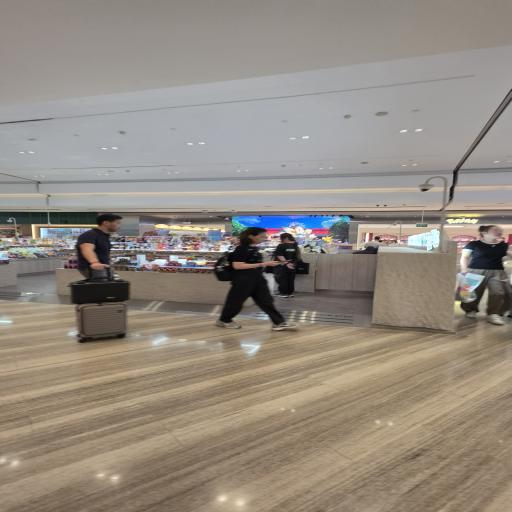person_left: (270, 226, 304, 292)
person_right: (437, 218, 512, 321), (213, 221, 272, 323)
person_with_luggage_right: (62, 208, 144, 336)
